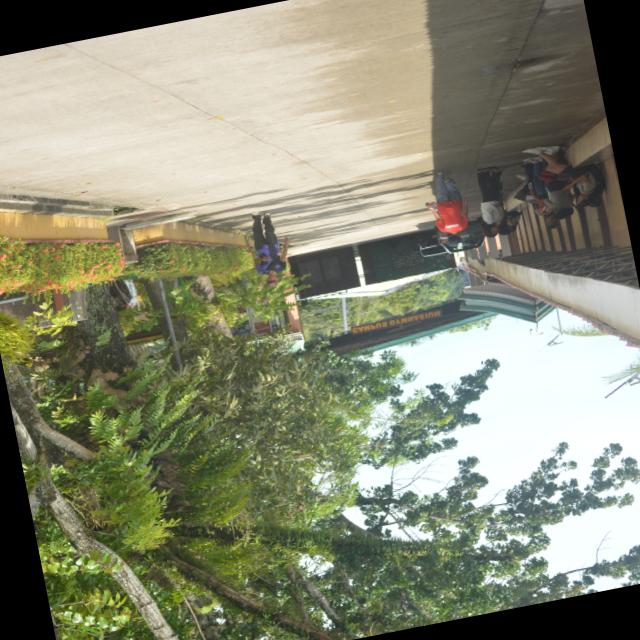person: (524, 144, 596, 205), (429, 171, 468, 244), (252, 211, 289, 285), (478, 166, 504, 236)
